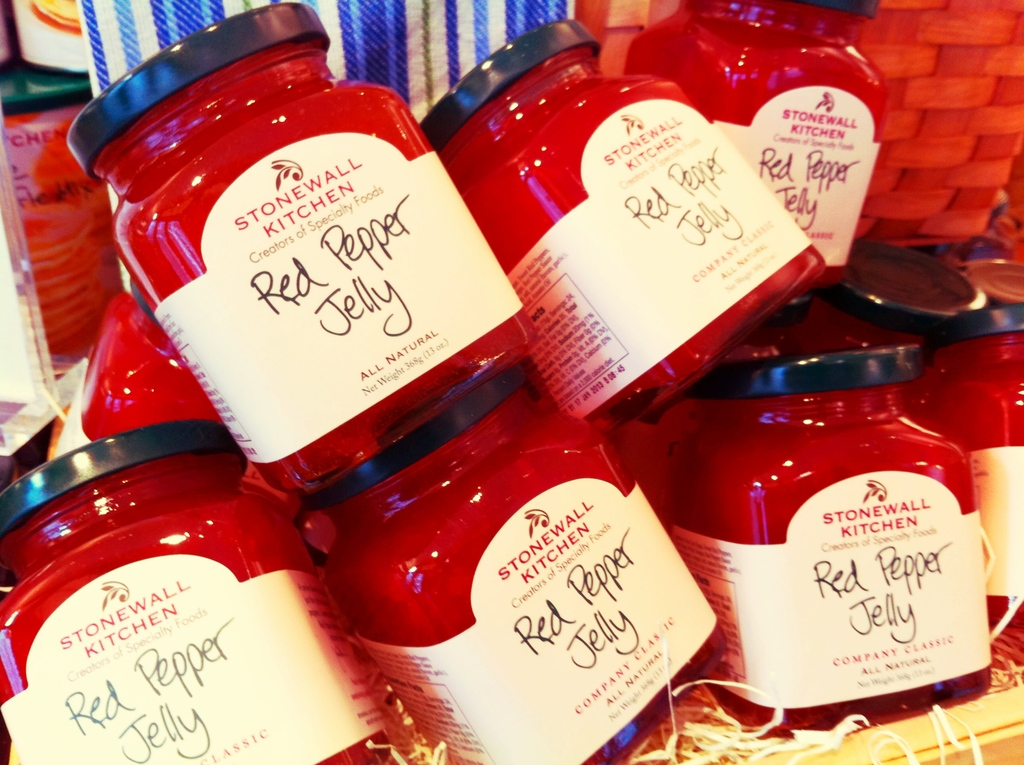can: (64, 0, 526, 493), (419, 13, 826, 436), (297, 363, 727, 762), (653, 343, 998, 733), (0, 418, 387, 762), (618, 0, 879, 287), (0, 62, 120, 374), (922, 305, 1022, 626), (43, 286, 220, 462), (784, 240, 976, 367)
